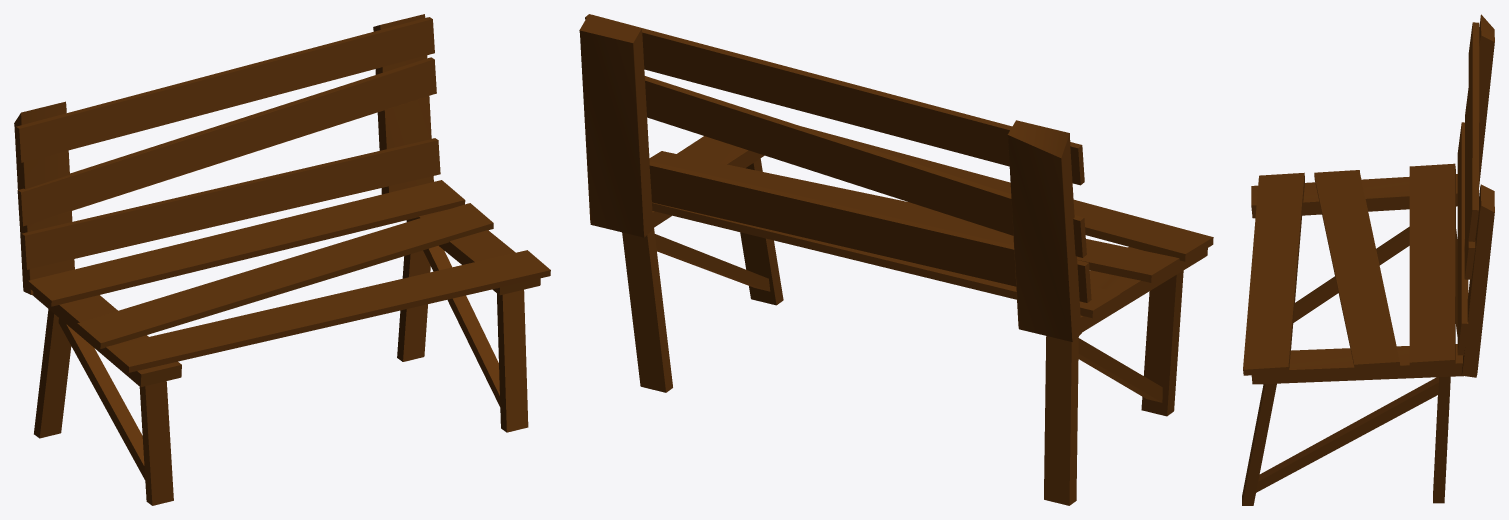
Rendered from banc_2.FBX.
3 renders of one model, left to right at view 1: azimuth 30°, elevation 25°; view 2: azimuth 150°, elevation 25°; view 3: azimuth 270°, elevation 25°, orthographic. The views are drawn at different scales.
Visible parts, largest first — view 1: Banc 1 High Poly001; view 2: Banc 1 High Poly001; view 3: Banc 1 High Poly001.
Part boxes in pixels (<box>): Banc 1 High Poly001: <box>14,14,550,505</box>; Banc 1 High Poly001: <box>579,14,1213,505</box>; Banc 1 High Poly001: <box>1242,14,1494,505</box>.
Bounding box in the file's own units: 147 × 108 × 79.88.
